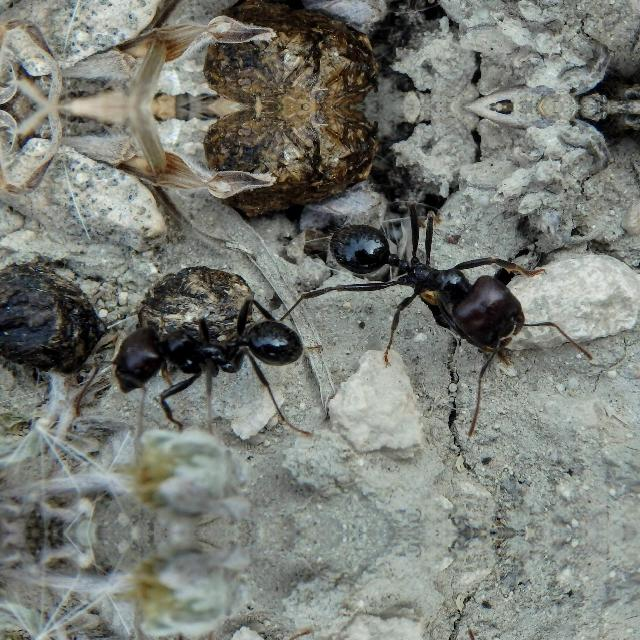Messor: (328, 201, 534, 371), (86, 291, 310, 411)
